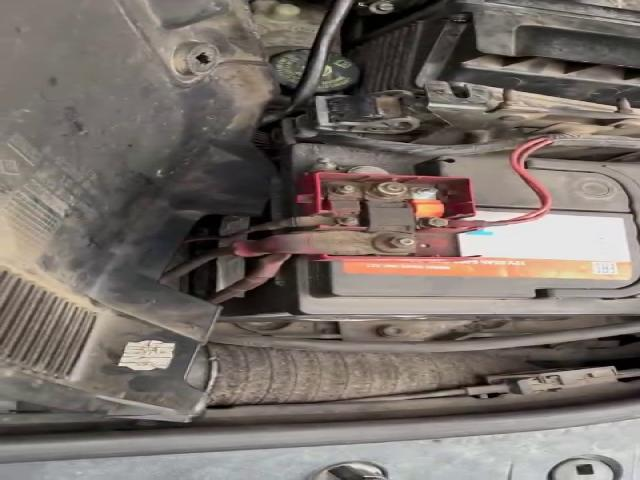accumulator: (193, 143, 637, 322)
